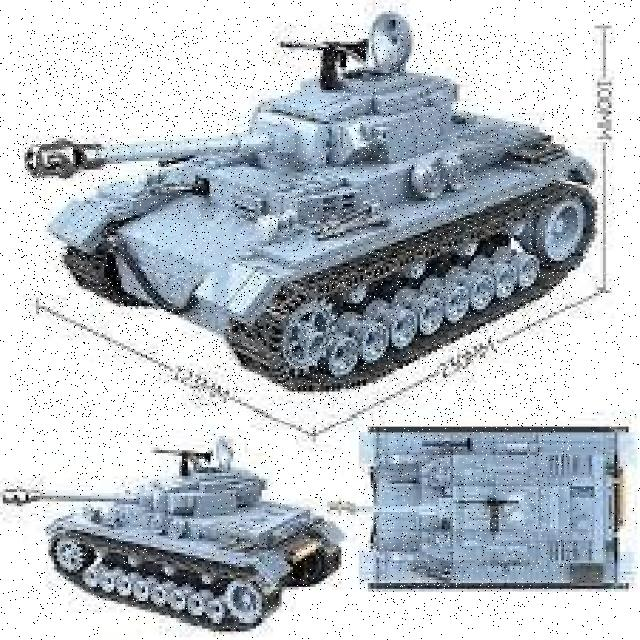MIL_MBT: (19, 31, 572, 417), (32, 424, 350, 621), (360, 416, 574, 623)
